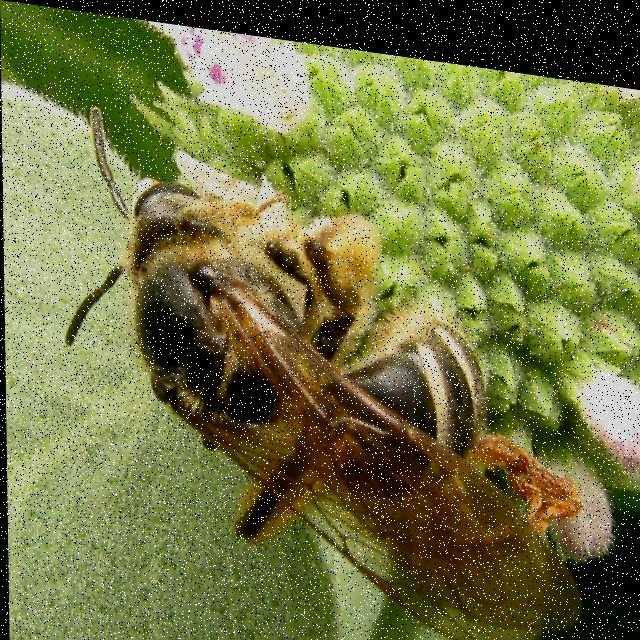Lasioglossum: (76, 90, 598, 640)
